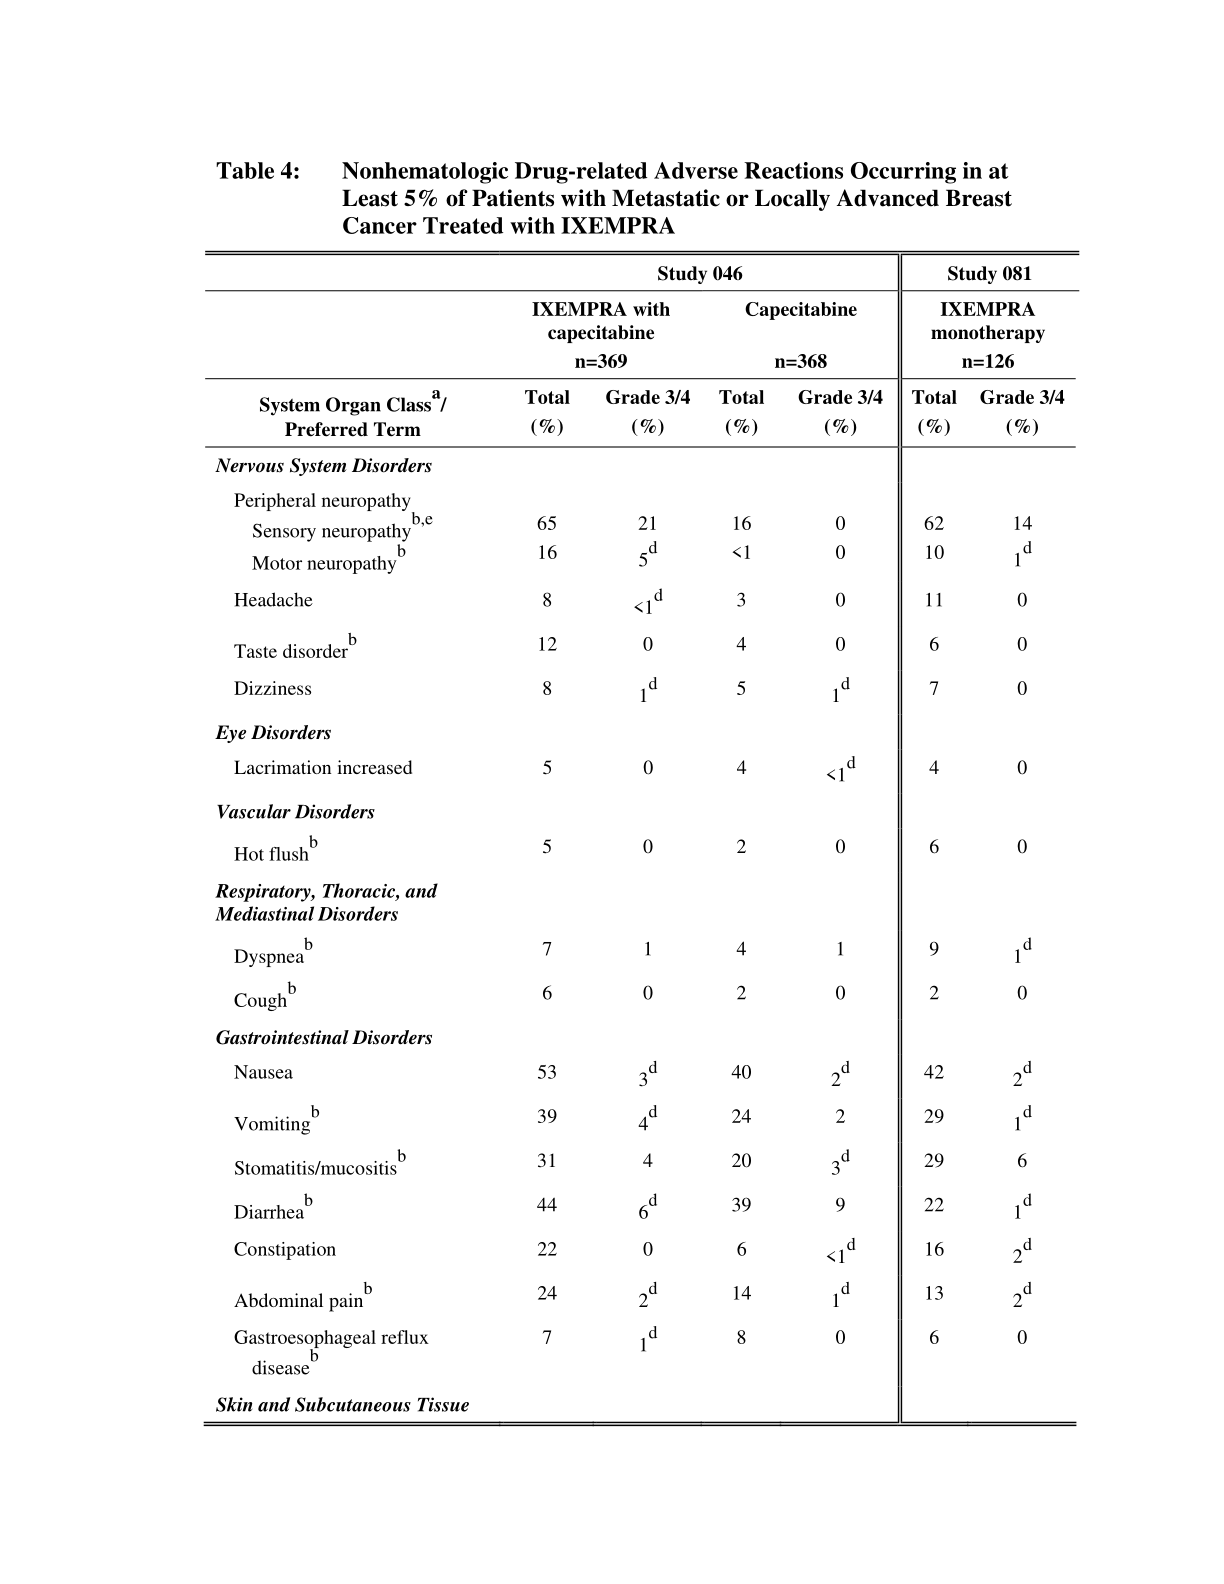partial_lined_merged_cells: (202, 249, 1083, 1427)
